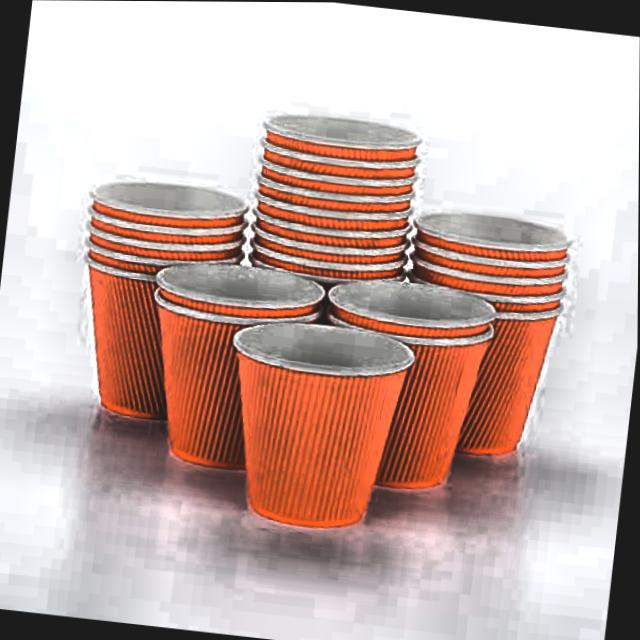Cup: (58, 165, 248, 432), (388, 202, 572, 468), (136, 240, 326, 496), (205, 310, 403, 546), (312, 275, 484, 510)
